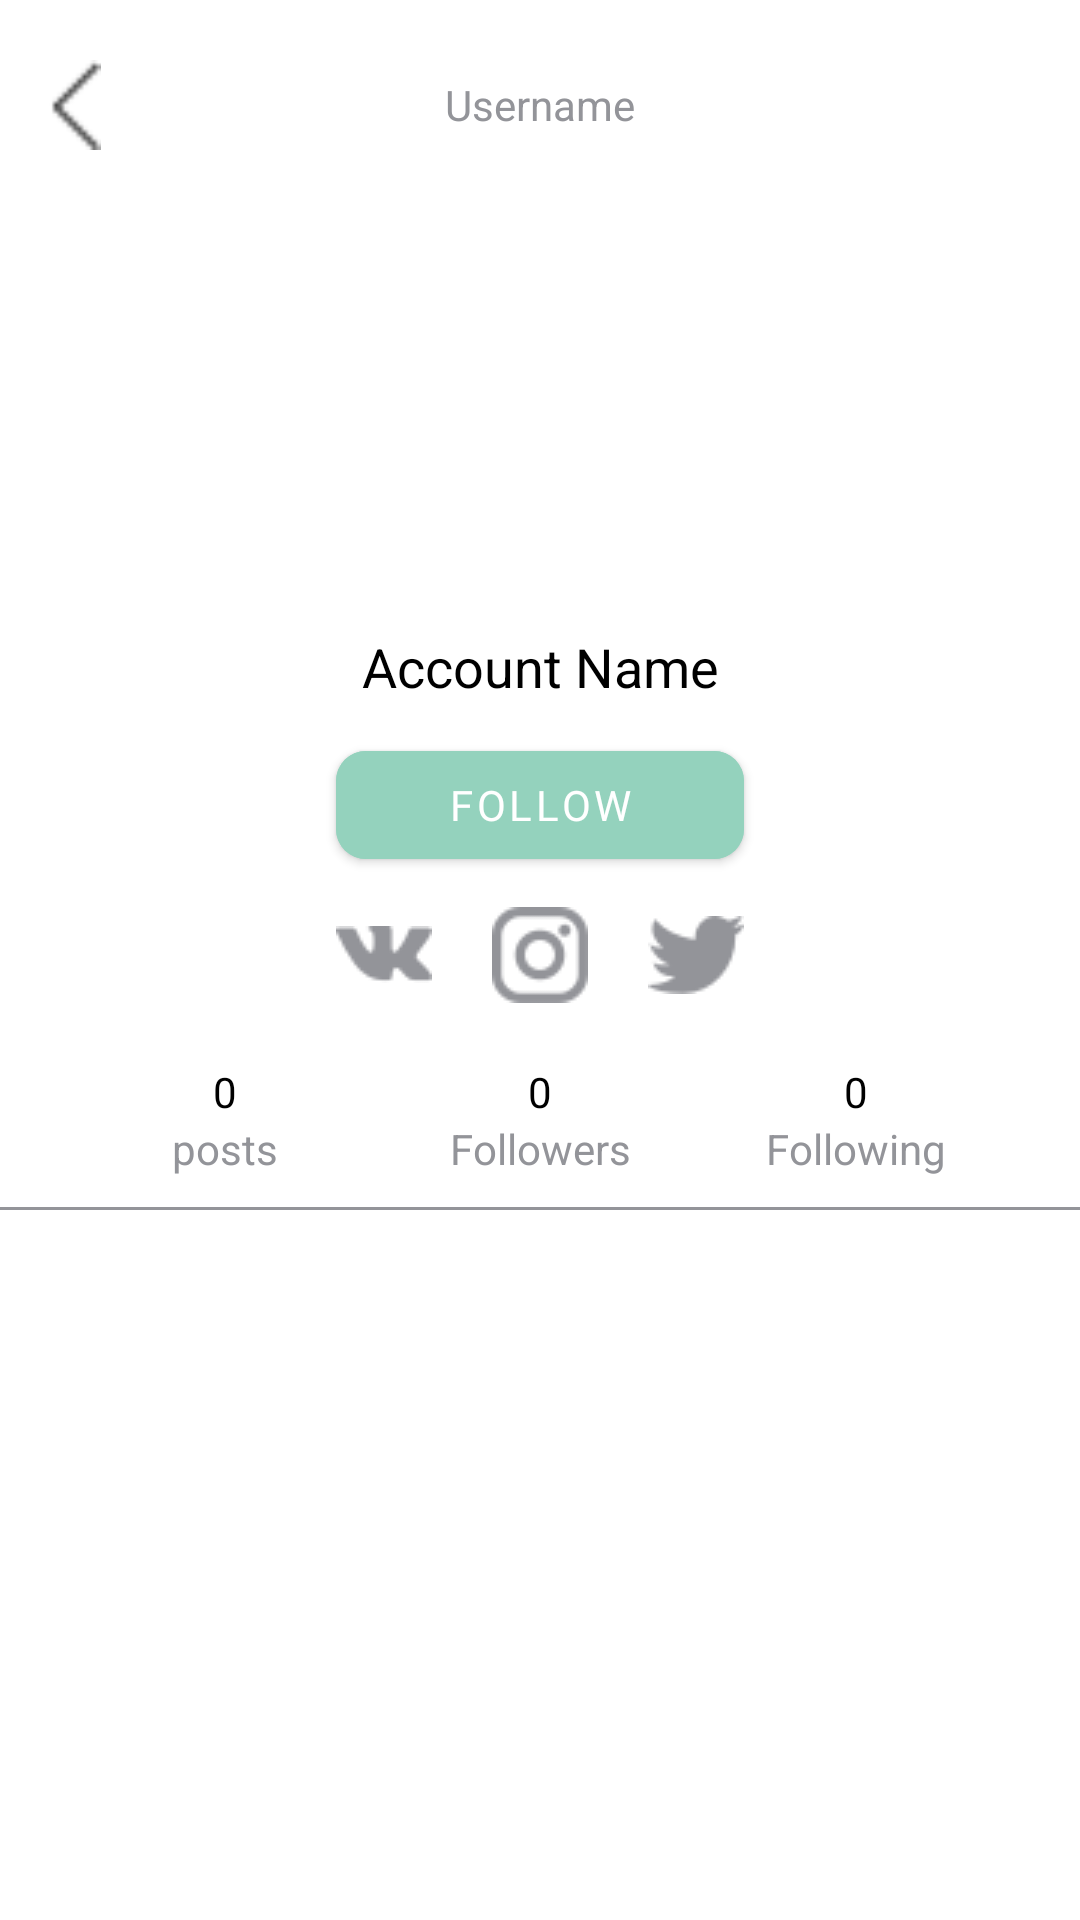

Icon bounding boxes for this 1080*1920 phone screenshot, format (left=x1, top=y1, right=x2, bottom=y2):
left arrow: (left=52, top=63, right=101, bottom=150)
